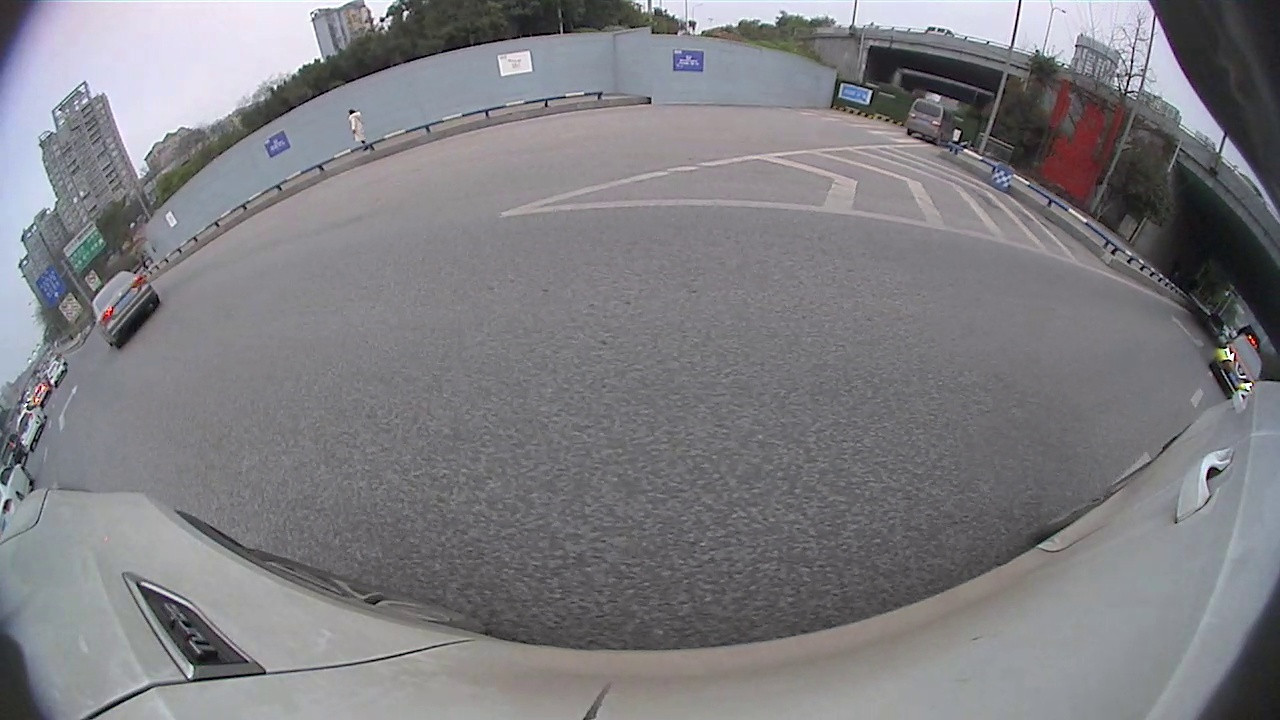car: (88, 268, 162, 350), (1207, 332, 1264, 402), (903, 96, 956, 148), (1, 463, 37, 518), (13, 403, 49, 454), (46, 357, 68, 387)
person: (348, 109, 364, 149)
